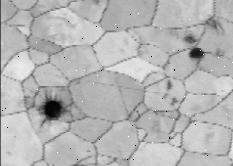good_void: (39, 97, 66, 123), (202, 12, 226, 37), (185, 47, 205, 61), (162, 91, 180, 106), (181, 32, 198, 45), (213, 46, 225, 59), (9, 133, 19, 145), (82, 147, 94, 156), (165, 80, 172, 90), (135, 109, 140, 118)
